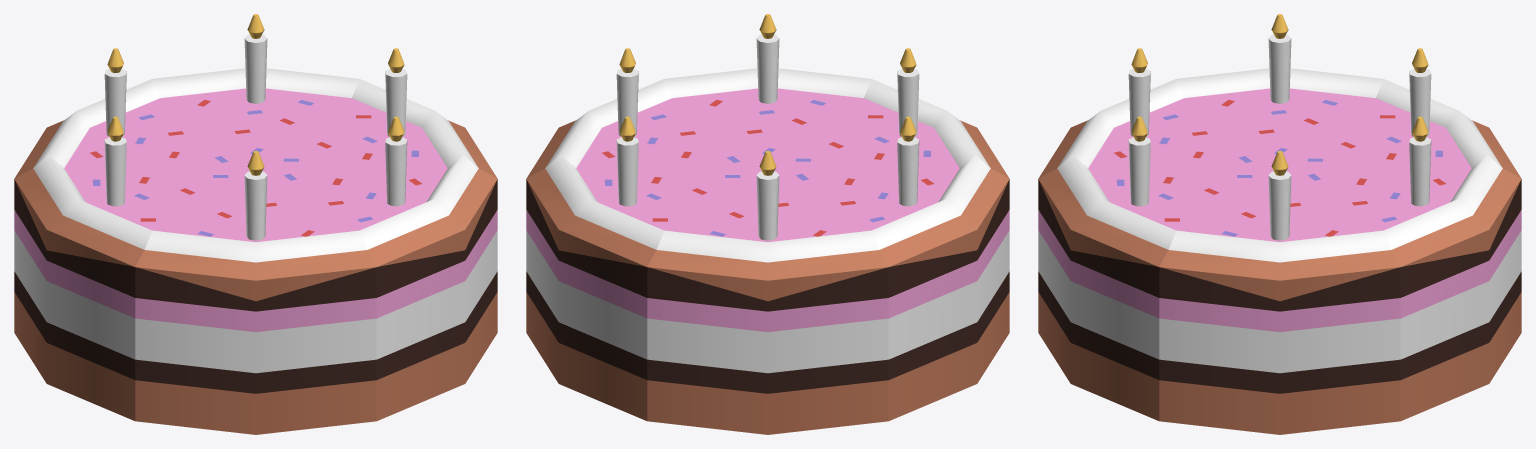
Rendered from cakeBirthday.glb.
The picture shows the model from 3 angles, left to right: view 1: azimuth 30°, elevation 25°; view 2: azimuth 150°, elevation 25°; view 3: azimuth 270°, elevation 25°; orthographic projection.
Visible parts, largest first — view 1: slice (×6); view 2: slice (×6); view 3: slice (×6).
Part boxes in pixels (x1,y1,x2,y2): slice (×6): (14, 14, 497, 434); slice (×6): (526, 14, 1009, 434); slice (×6): (1038, 14, 1521, 434).
Bounding box in the file's own units: 0.6392 × 0.3638 × 0.6392.
